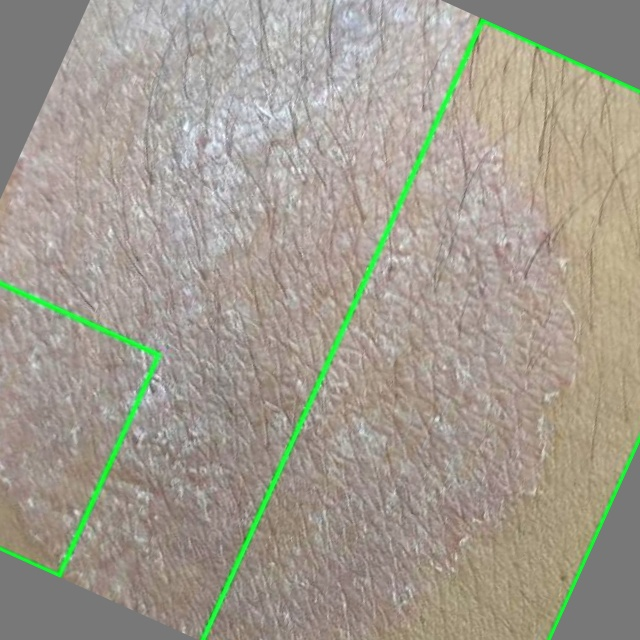Tinea Corporis: (203, 19, 639, 639)
